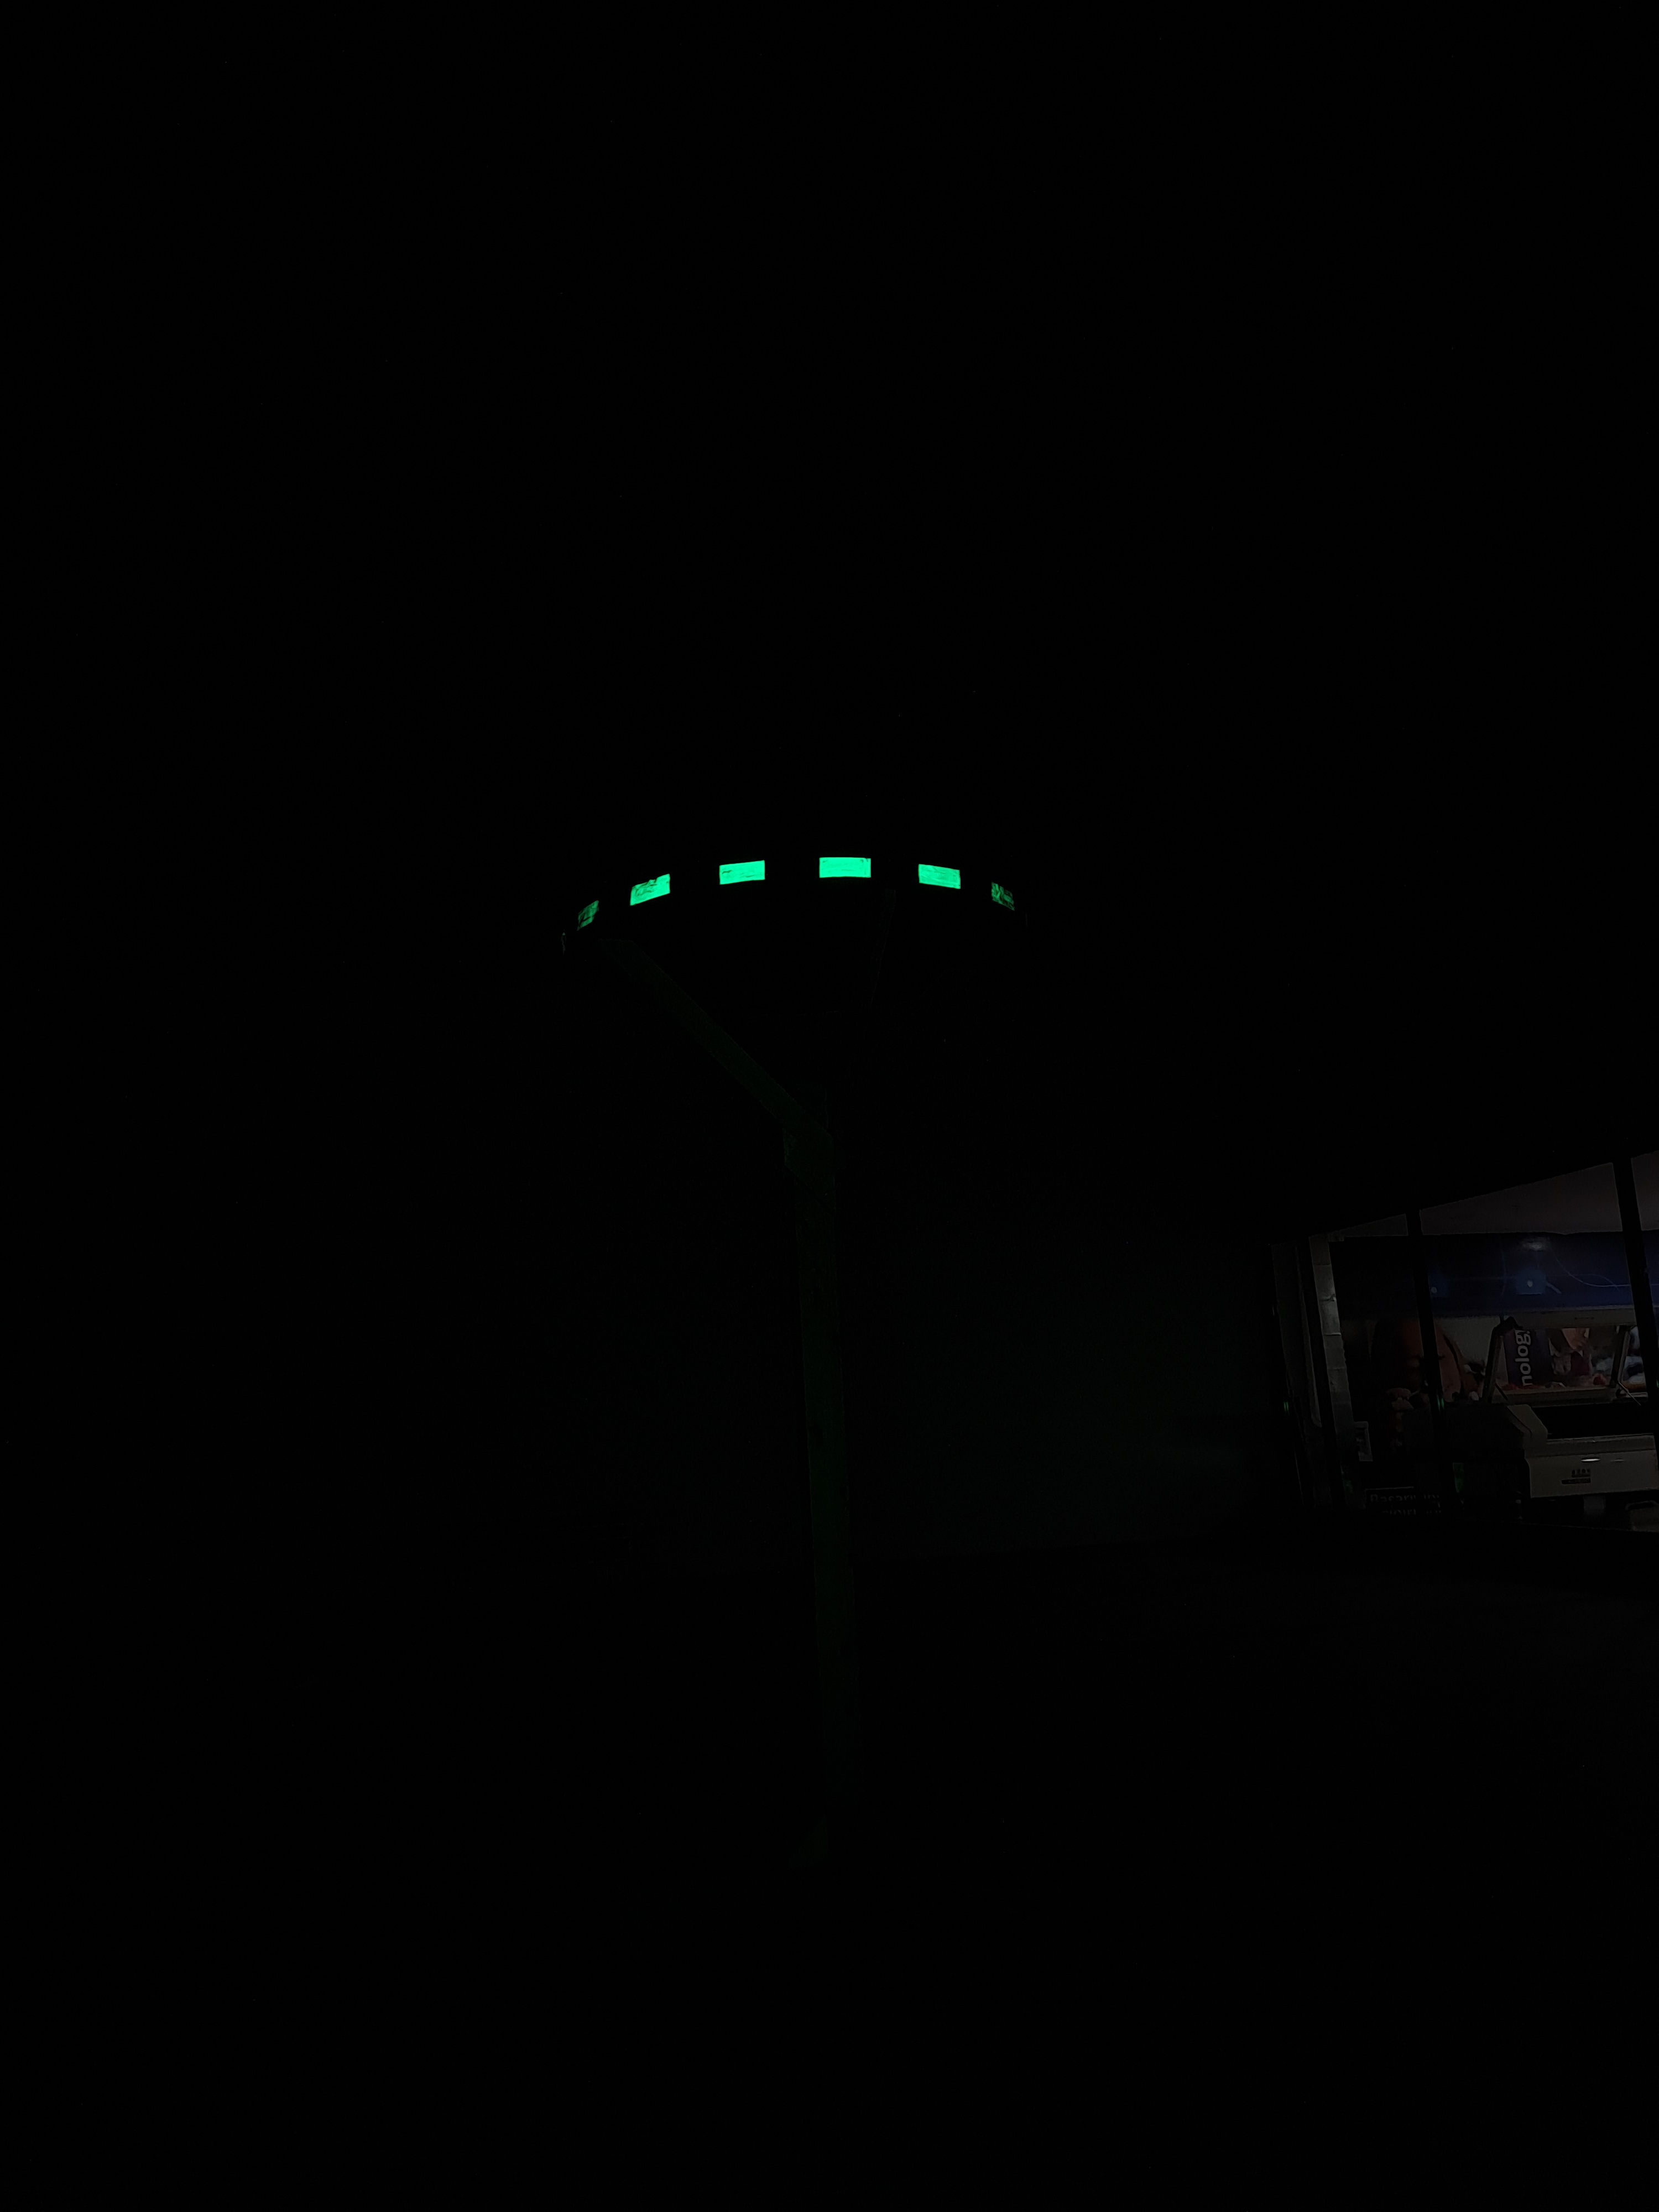hoop: (537, 850, 1044, 942)
